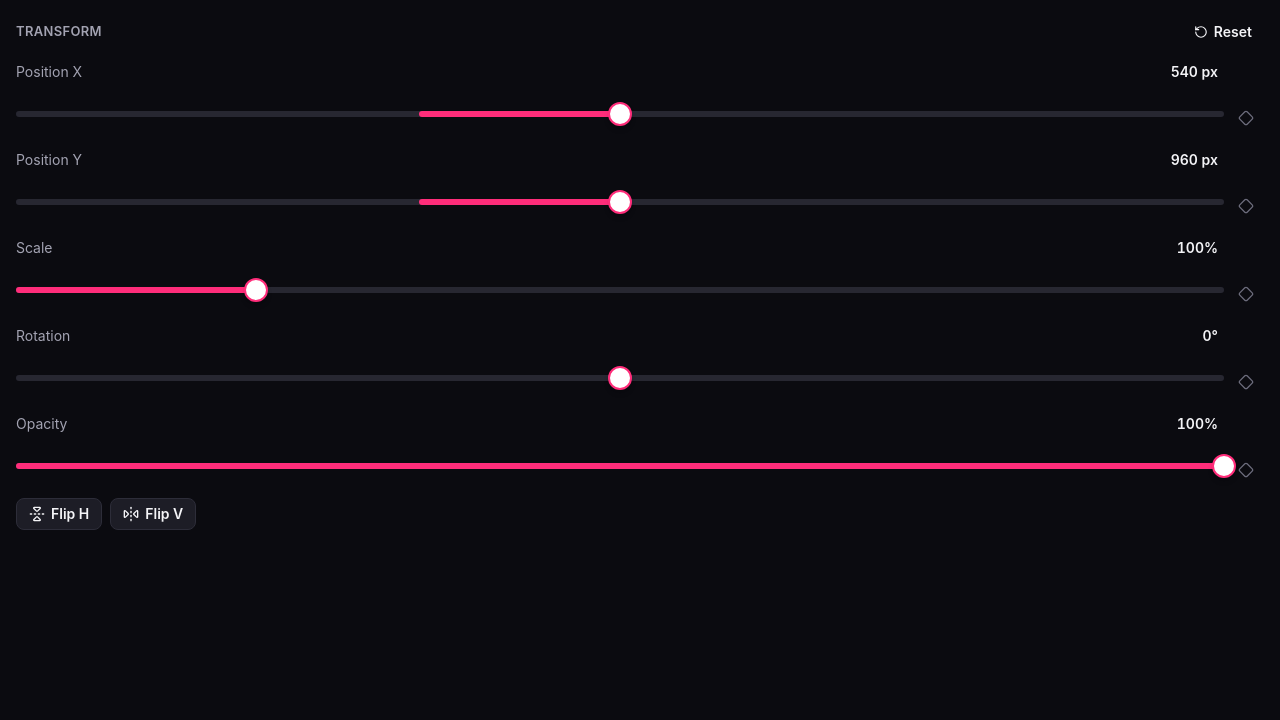
Test: transform & keyframes › diamond toggles a keyframe at the playhead for that property only
Later steps or results of the test are not shown.
Click the button named "Add Scale keyframe".
click(1246, 294)  # box 1228,276 -> 1264,312
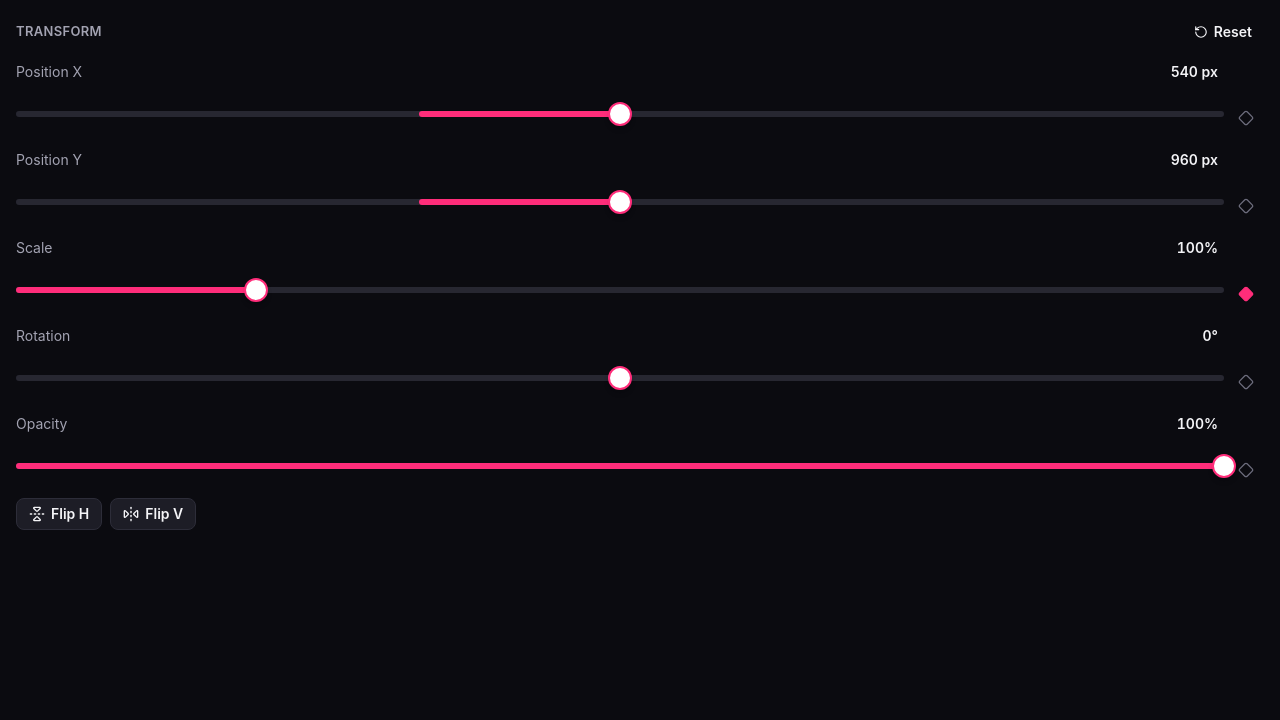
Now the button named "Remove Scale keyframe" is pressed, box 1228,276 -> 1264,312
